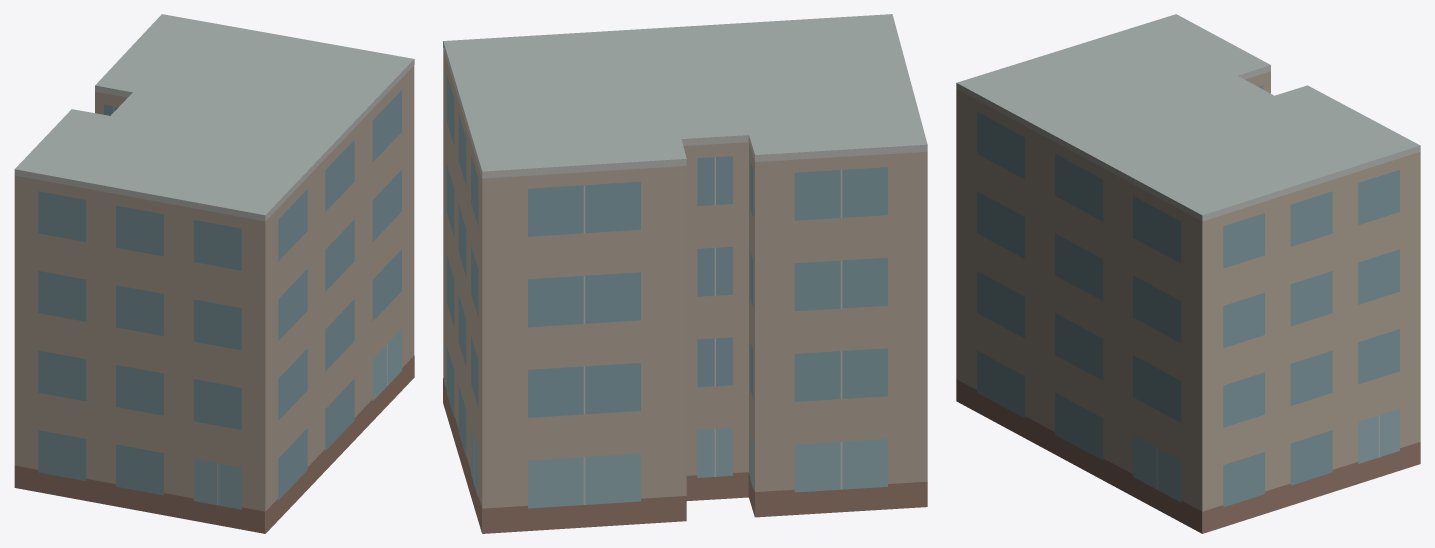
Rendered from survey-upis-32677884.glb.
The picture shows the model from 3 angles, left to right: view 1: azimuth 30°, elevation 25°; view 2: azimuth 150°, elevation 25°; view 3: azimuth 270°, elevation 25°; orthographic projection. The views are drawn at different scales.
Parts seen in each view (by area): view 1: survey-upis-32677884.tmp; view 2: survey-upis-32677884.tmp; view 3: survey-upis-32677884.tmp.
Part boxes in pixels (x1=…): survey-upis-32677884.tmp: x1=14, y1=14, x2=414, y2=533; survey-upis-32677884.tmp: x1=443, y1=14, x2=927, y2=533; survey-upis-32677884.tmp: x1=956, y1=14, x2=1420, y2=533.
Bounding box in the file's own units: 17.07 × 12.58 × 16.62.
